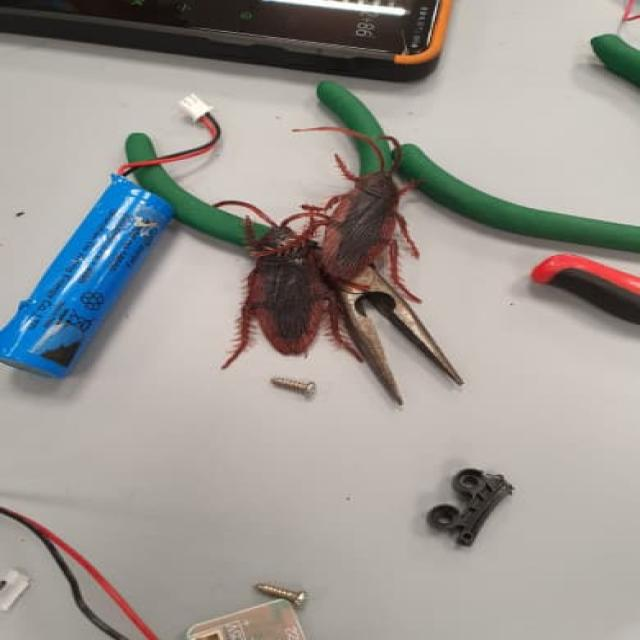Cockroach: (213, 183, 361, 367), (294, 123, 435, 305)
